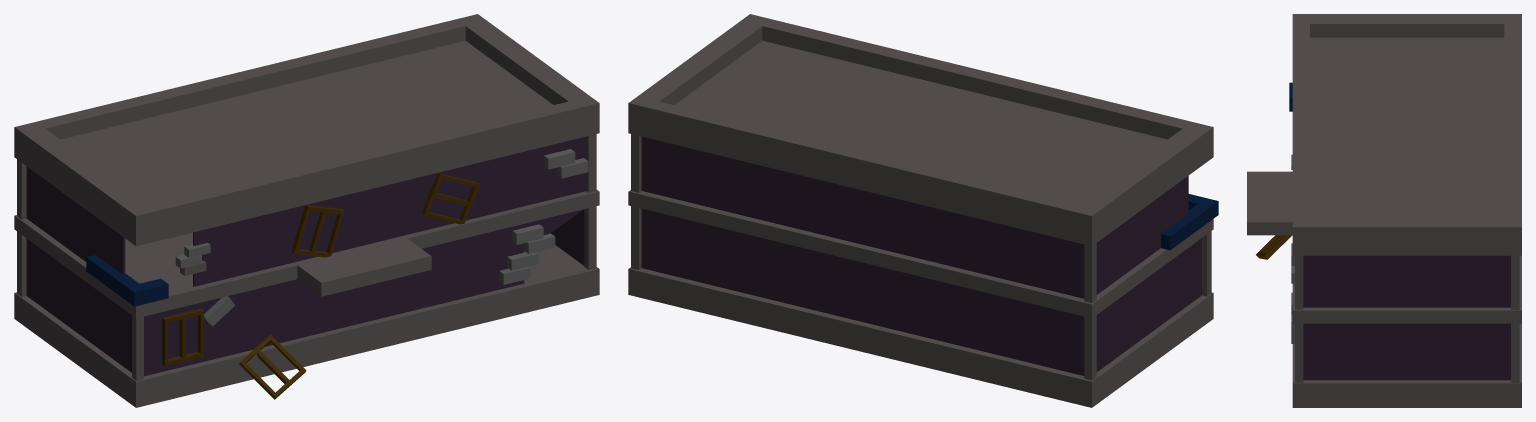
The model's file is Buzilgan learning center.fbx.
3 views of the same model, side by side, from view 1: azimuth 30°, elevation 25°; view 2: azimuth 150°, elevation 25°; view 3: azimuth 270°, elevation 25° (orthographic). The views are drawn at different scales.
Parts seen in each view (by area): view 1: Cube.032, Wooden wall.006, Wooden wall.003, Cube.001, Cube, Wooden wall, Cube.009, Cube.004, Wooden wall.002, Plane.013, Plane.004, Plane (+1 smaller); view 2: Cube.032, Wooden wall.006, Wooden wall.001, Cube.001, Cube, Wooden wall, Cube.004, Wooden wall.003; view 3: Cube.032, Wooden wall.002, Wooden wall.006, Cube, Cube.001, Wooden wall.001, Plane, Cube.009.
Boxes of the visible parts, box(x1,y1,x2,y2) form: Cube.032: box(14, 14, 599, 246); Wooden wall.006: box(17, 134, 596, 286); Wooden wall.003: box(132, 209, 583, 380); Cube.001: box(14, 245, 599, 407); Cube: box(14, 190, 599, 318); Wooden wall: box(17, 231, 131, 372); Cube.009: box(203, 149, 588, 325); Cube.004: box(86, 255, 168, 306); Wooden wall.002: box(551, 206, 596, 269); Plane.013: box(291, 205, 344, 257); Plane.004: box(162, 308, 203, 365); Plane: box(239, 335, 306, 399); Cube.032: box(628, 14, 1213, 246); Wooden wall.006: box(631, 134, 1188, 302); Wooden wall.001: box(631, 206, 1084, 375); Cube.001: box(628, 267, 1213, 407); Cube: box(628, 190, 1213, 318); Wooden wall: box(1084, 238, 1201, 380); Cube.004: box(1161, 194, 1218, 250); Wooden wall.003: box(1202, 231, 1211, 296); Cube.032: box(1292, 14, 1521, 255); Wooden wall.002: box(1295, 323, 1510, 382); Wooden wall.006: box(1295, 255, 1519, 309); Cube: box(1247, 171, 1521, 323); Cube.001: box(1292, 323, 1521, 407); Wooden wall.001: box(1511, 323, 1519, 382); Plane: box(1256, 235, 1291, 259); Cube.009: box(1291, 154, 1294, 343).
Bounding box in the file's own units: 6929 × 2841 × 3748.
